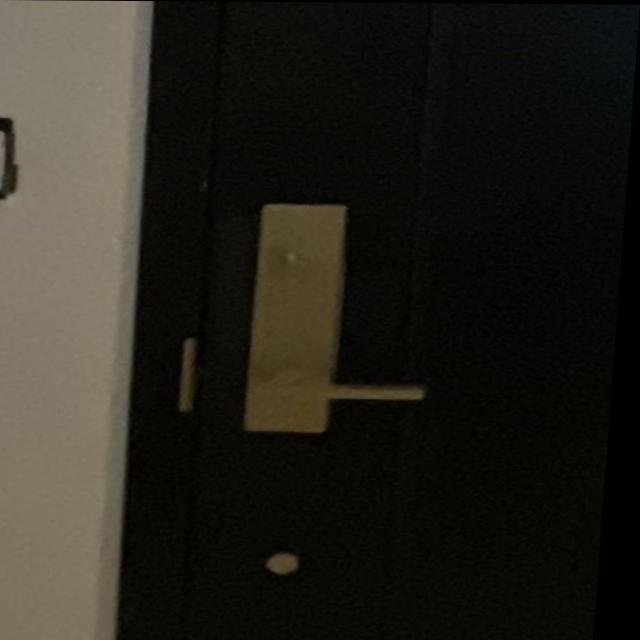door_handle: (243, 360, 447, 416)
